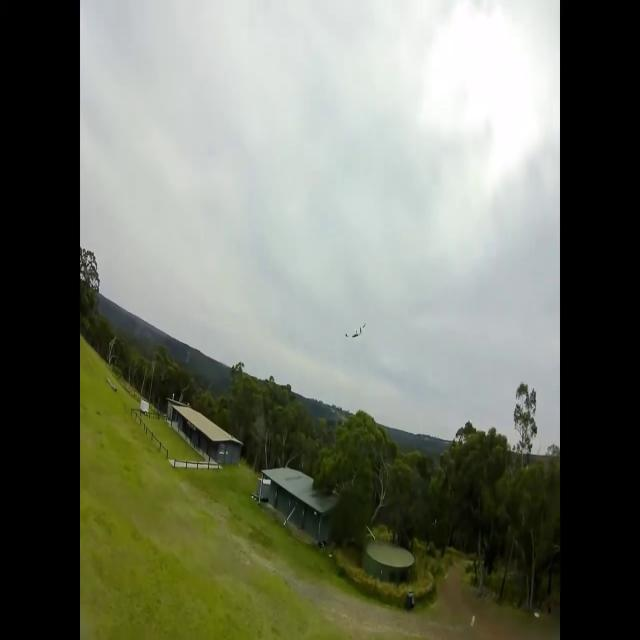iha: (346, 315, 366, 334)
